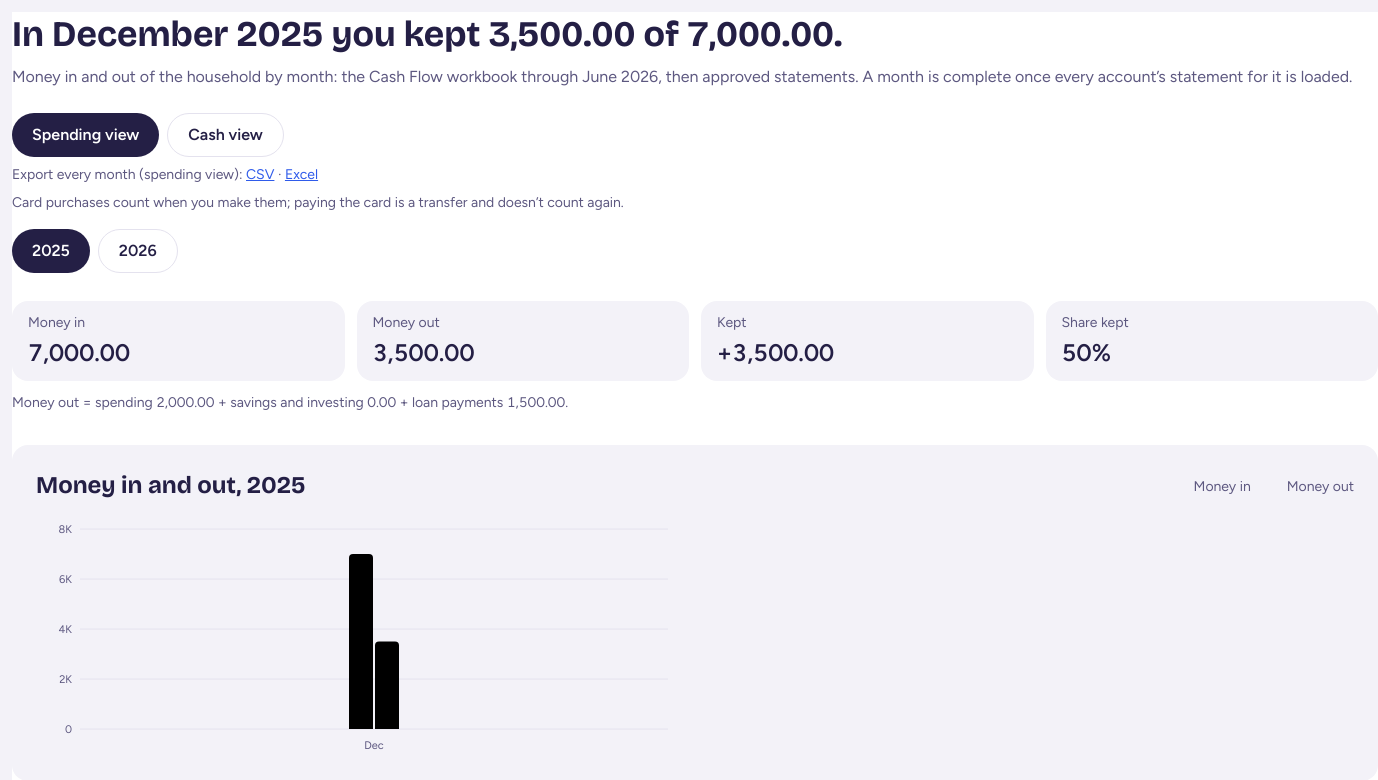
Overview › switches year and says when more went out than came in
Check: the heading "In December 2025 you kept 3,500.00 of 7,000.00." is shown, box [12,13,842,56]
What coordinates should you click on to do the following:
click the button "2026"
I would click on:
 (138, 251)
Its box is [98,229,178,273].
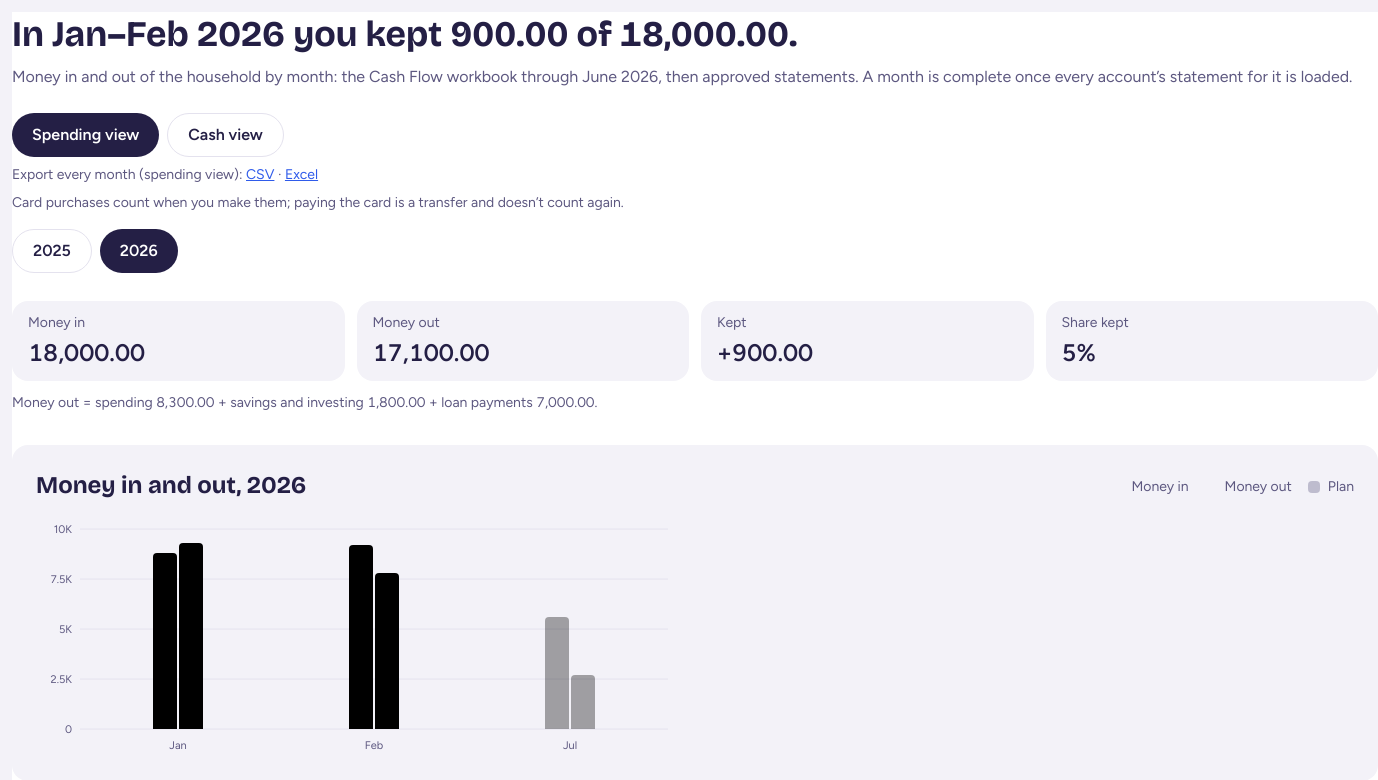
Check: the heading "In Jan–Feb 2026 you kept 900.00 of 18,000.00." is shown, box [12,13,797,56]
